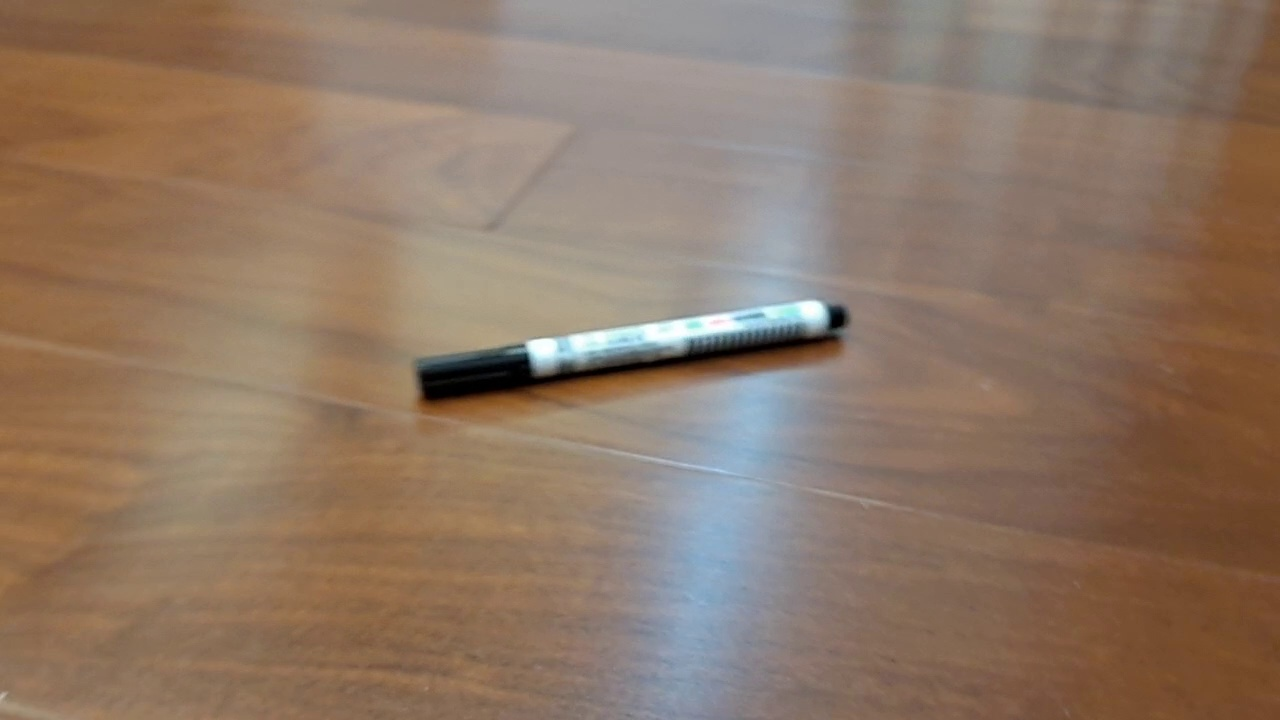pen: (414, 299, 850, 402)
